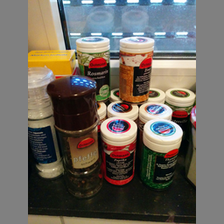spices: (47, 75, 102, 204), (28, 67, 63, 179), (141, 118, 183, 189), (101, 115, 136, 186), (118, 35, 150, 104), (76, 36, 109, 101)
